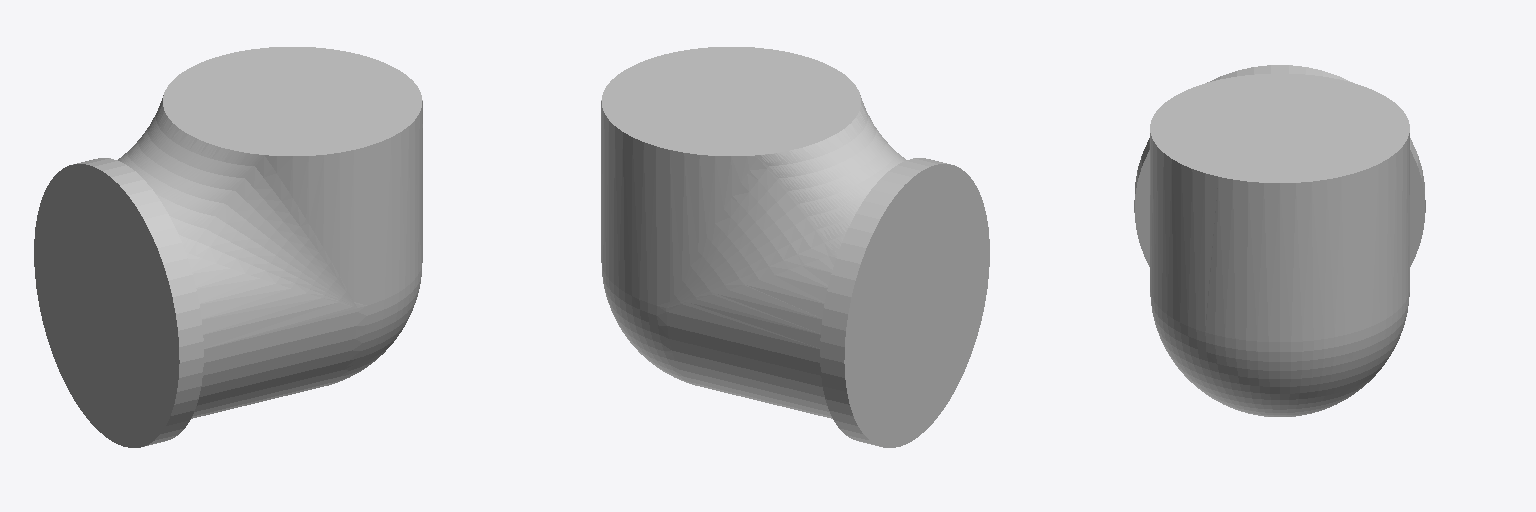
The model's file is hip.obj.
The picture shows the model from 3 angles: view 1: azimuth 30°, elevation 25°; view 2: azimuth 150°, elevation 25°; view 3: azimuth 270°, elevation 25°; orthographic projection.
Size of the model in its own units: 0.1219 by 0.1136 by 0.103.